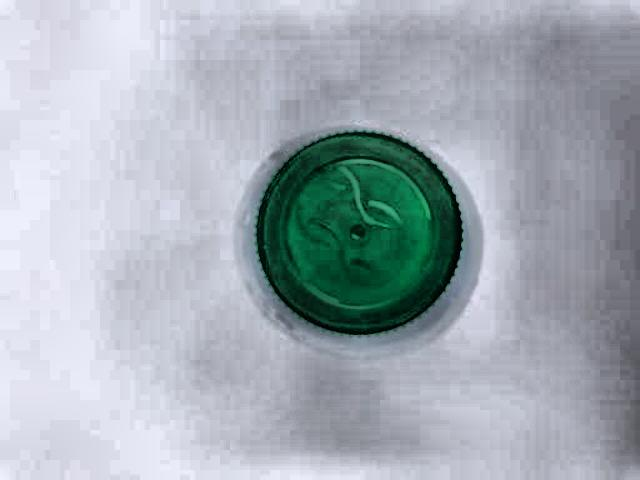Bottles: (250, 129, 464, 338)
